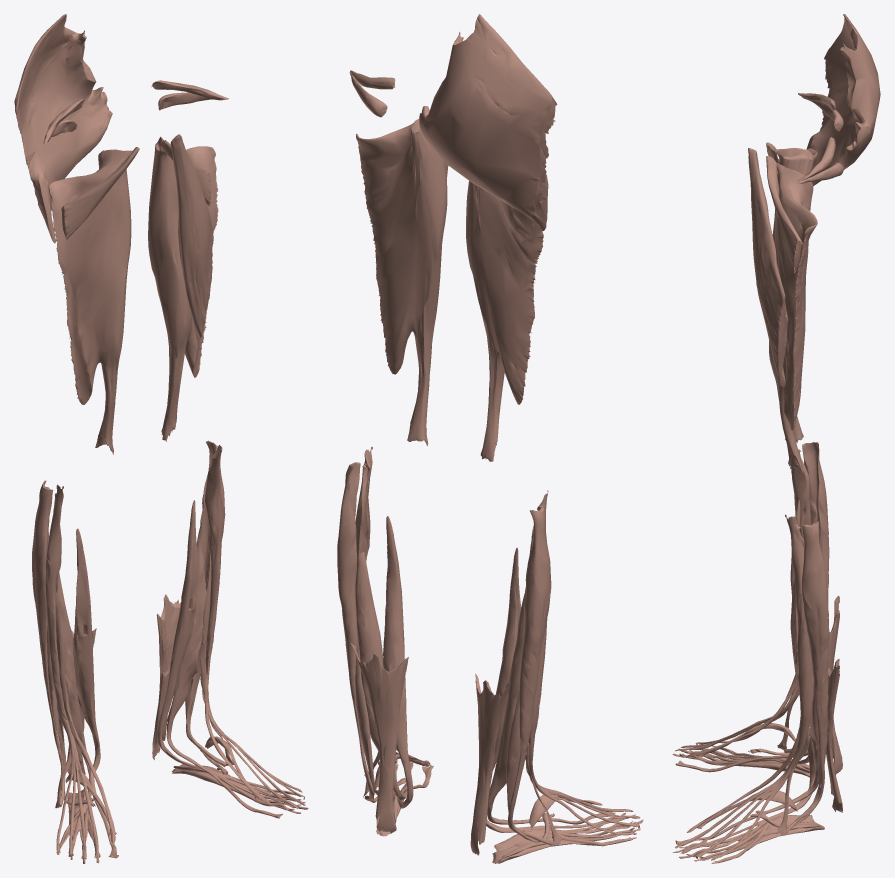
The model's file is other-16.glb.
The picture shows the model from 3 angles, left to right: view 1: azimuth 30°, elevation 25°; view 2: azimuth 150°, elevation 25°; view 3: azimuth 270°, elevation 25°; orthographic projection. The views are drawn at different scales.
Parts seen in each view (by area): view 1: FJ1403, FJ1418, FJ1403M, FJ1402M, FJ1406, FJ1414M, FJ1414, FJ1406M, FJ1410, FJ1415M, FJ1405M, FJ1415 (+8 smaller); view 2: FJ1418, FJ1403M, FJ1403, FJ1410, FJ1405M, FJ1410M, FJ1414M, FJ1414, FJ1405, FJ1415M, FJ1415, FJ1406 (+5 smaller); view 3: FJ1403M, FJ1418, FJ1410M, FJ1402M, FJ1406M, FJ1410, FJ1414M, FJ1406, FJ1404M, FJ1405M, FJ1403, FJ1414 (+12 smaller).
Part boxes in pixels (<box>): FJ1403: <box>48,149,132,454</box>; FJ1418: <box>14,14,112,243</box>; FJ1403M: <box>148,136,218,441</box>; FJ1402M: <box>170,134,213,337</box>; FJ1406: <box>45,484,99,859</box>; FJ1414M: <box>158,500,308,813</box>; FJ1414: <box>57,528,100,863</box>; FJ1406M: <box>205,445,305,808</box>; FJ1410: <box>32,480,95,806</box>; FJ1415M: <box>166,521,282,818</box>; FJ1405M: <box>152,594,180,759</box>; FJ1415: <box>56,572,118,858</box>; FJ1418: <box>419,14,557,231</box>; FJ1403M: <box>356,118,447,445</box>; FJ1403: <box>466,181,543,461</box>; FJ1410: <box>508,507,554,842</box>; FJ1405M: <box>350,643,408,833</box>; FJ1410M: <box>337,462,406,802</box>; FJ1414M: <box>366,516,413,808</box>; FJ1414: <box>486,547,643,846</box>; FJ1405: <box>470,673,510,855</box>; FJ1415M: <box>355,552,433,800</box>; FJ1415: <box>487,594,615,824</box>; FJ1406: <box>528,490,640,835</box>; FJ1403M: <box>769,163,817,472</box>; FJ1418: <box>806,14,880,185</box>; FJ1410M: <box>750,521,829,827</box>; FJ1402M: <box>748,148,788,387</box>; FJ1406M: <box>675,514,813,860</box>; FJ1410: <box>748,442,829,755</box>; FJ1414M: <box>672,578,815,863</box>; FJ1406: <box>675,438,811,751</box>; FJ1404M: <box>766,156,802,273</box>; FJ1405M: <box>826,659,842,812</box>; FJ1403: <box>772,148,817,442</box>; FJ1414: <box>672,500,808,764</box>.
Bounding box in the file's own units: 0.3321 × 1.01 × 0.2463.
